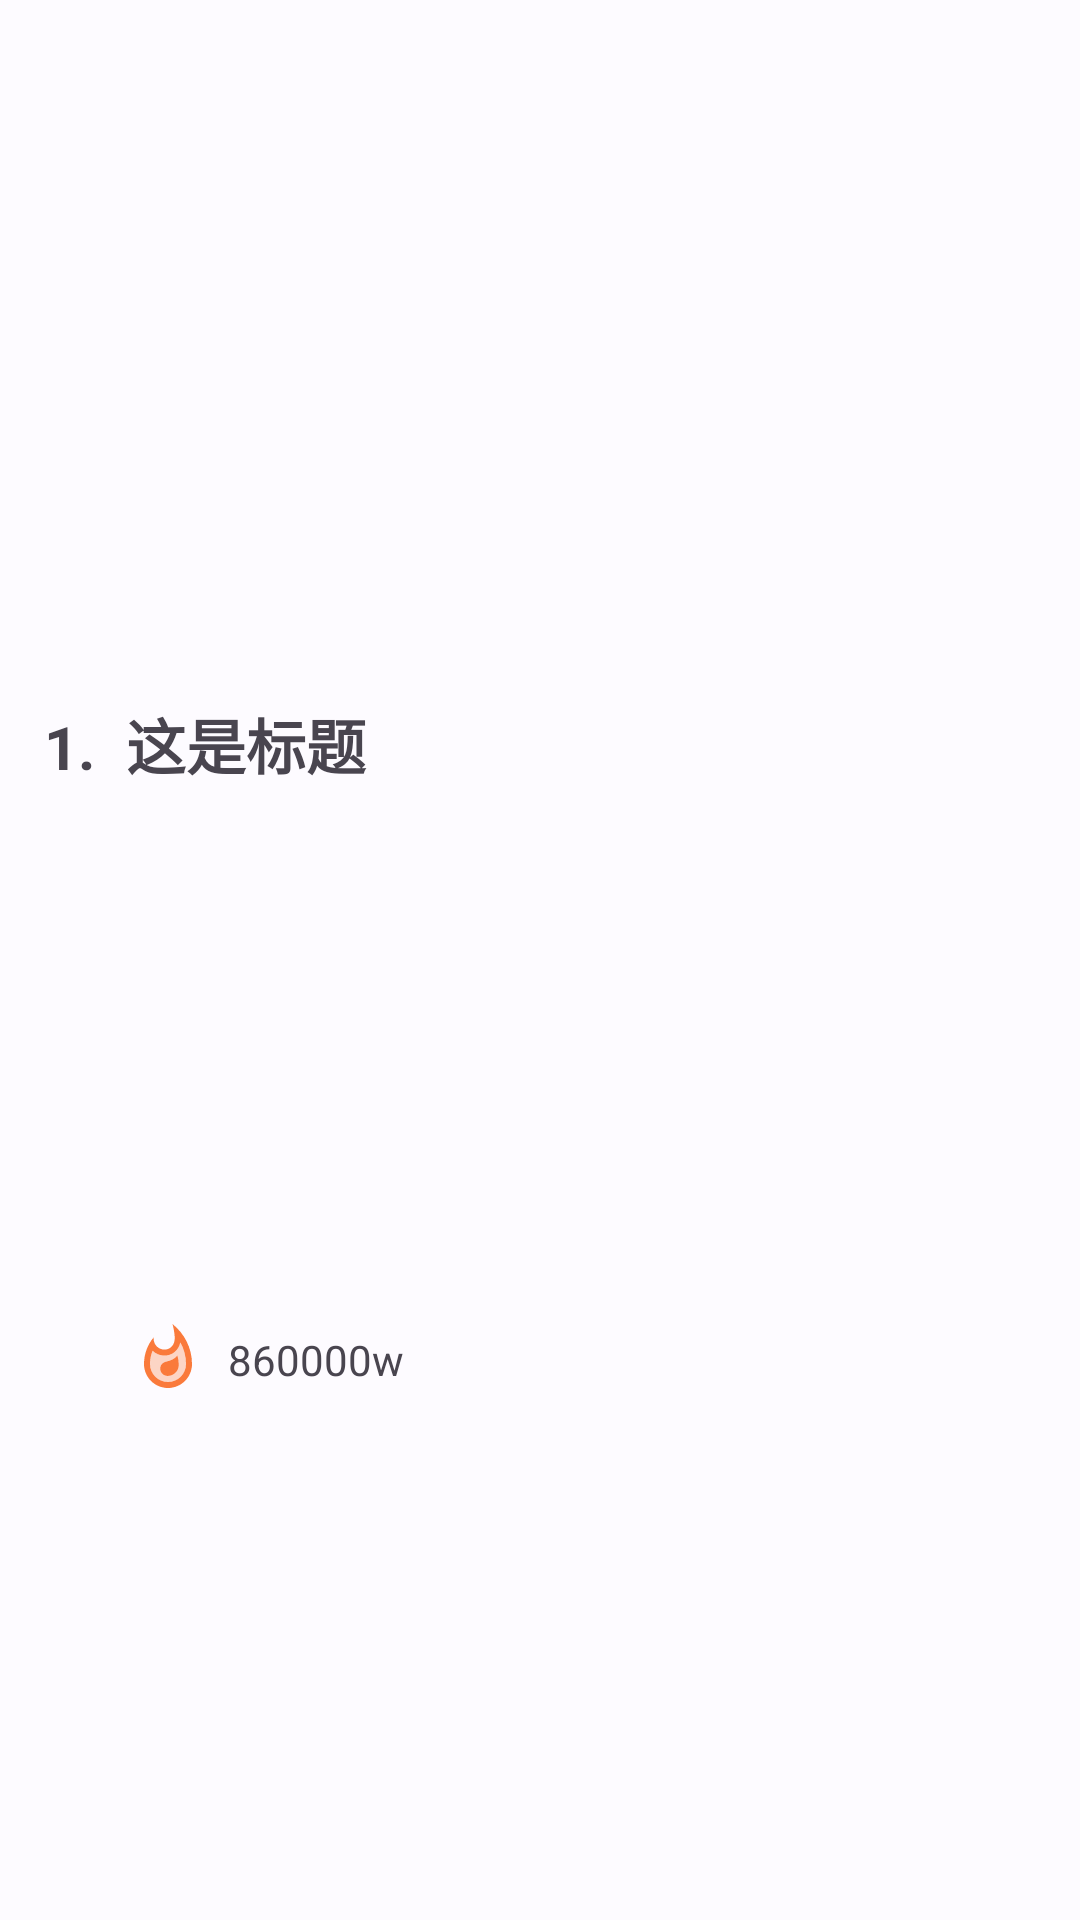

Named icons in this screenshot (1080*1920) and their bounding boxes, {"left": x1, "top": y1, "right": x2, "bottom": y2}:
whatshot: {"left": 144, "top": 1324, "right": 192, "bottom": 1388}
